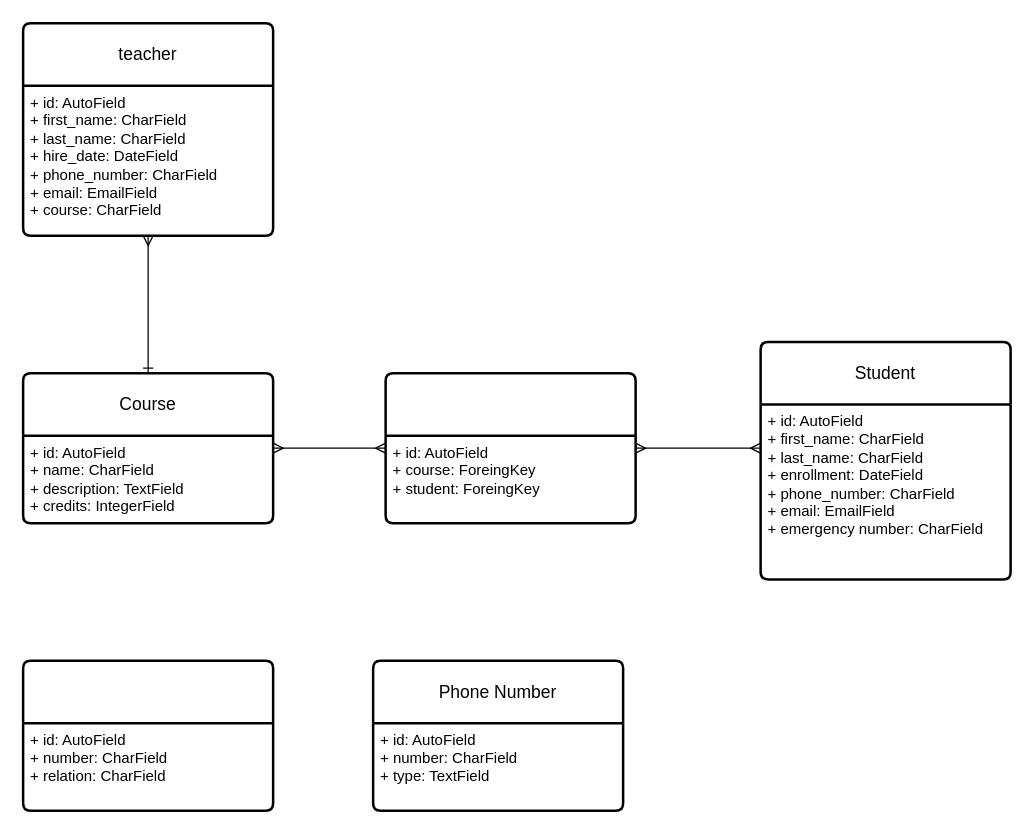
The diagram is 1033 pixels wide and 833 high, and some of its shapes have lost their labels. Each missing label, with the box of its shape:
Course Detail: (384, 371, 636, 524)
Emergency Number: (21, 659, 274, 811)
